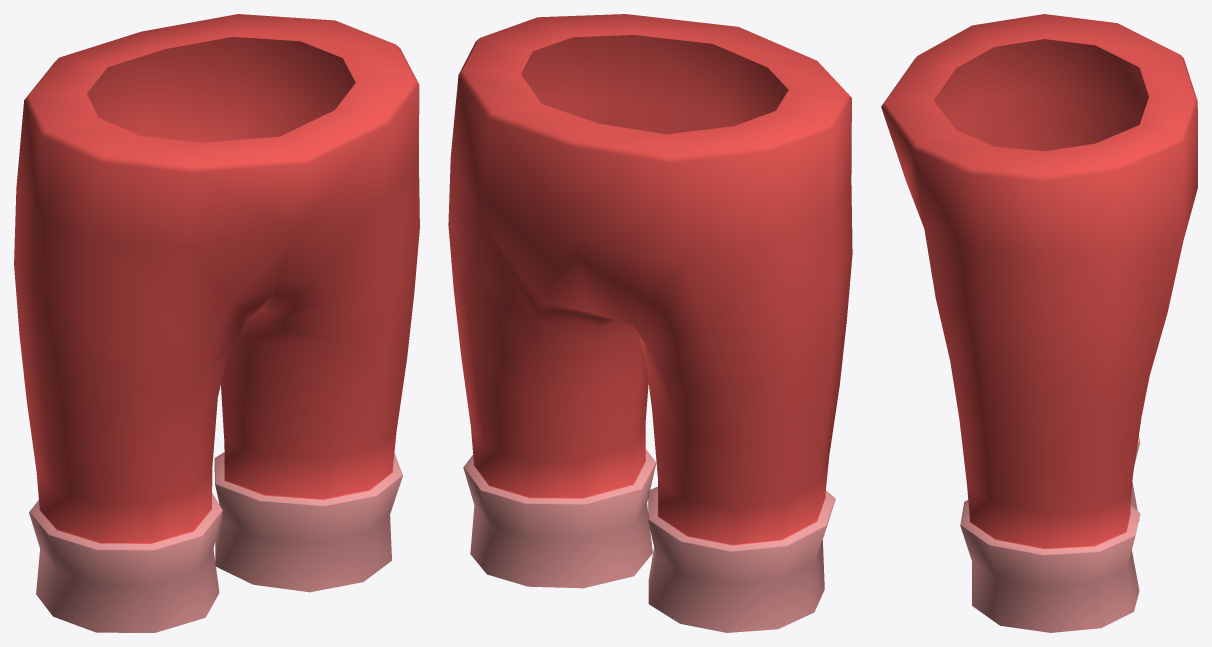
The model's file is Pants_Red_002.glb.
3 views of the same model, side by side, from view 1: azimuth 30°, elevation 25°; view 2: azimuth 150°, elevation 25°; view 3: azimuth 270°, elevation 25° (orthographic). The views are drawn at different scales.
Visible parts, largest first — view 1: Pants_Red_002; view 2: Pants_Red_002; view 3: Pants_Red_002.
Boxes of the visible parts, x1,y1,x2,y2 form: Pants_Red_002: [14, 14, 419, 632]; Pants_Red_002: [448, 14, 852, 632]; Pants_Red_002: [881, 14, 1197, 632].
Size of the model in its own units: 0.4529 by 0.5758 by 0.3561.
1 material, 1 textured.
